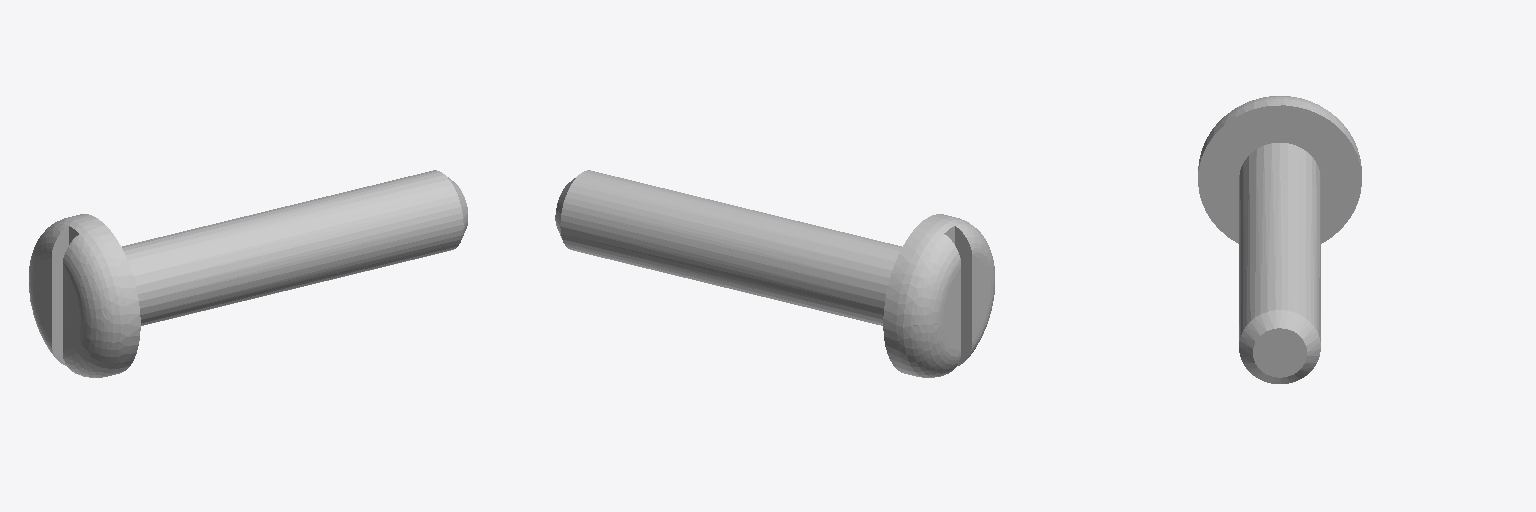
File: screws m6.obj
The picture shows the model from 3 angles: view 1: azimuth 30°, elevation 25°; view 2: azimuth 150°, elevation 25°; view 3: azimuth 270°, elevation 25°; orthographic projection.
Parts seen in each view (by area): view 1: imagetostl_mesh; view 2: imagetostl_mesh; view 3: imagetostl_mesh.
Boxes of the visible parts, x1,y1,x2,y2 form: imagetostl_mesh: [29, 170, 467, 377]; imagetostl_mesh: [555, 170, 994, 377]; imagetostl_mesh: [1198, 96, 1361, 383].
Bounding box in the file's own units: 33.6 × 12 × 12.